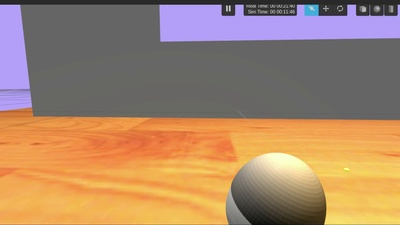mira_robot: (225, 151, 327, 225)
